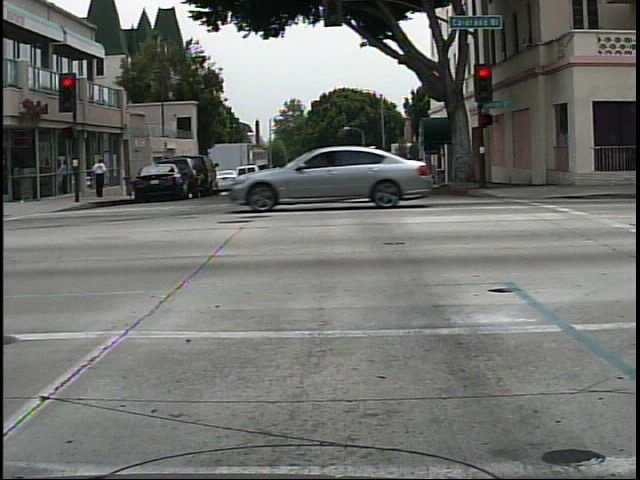person: (466, 142, 495, 195), (85, 151, 113, 203)
